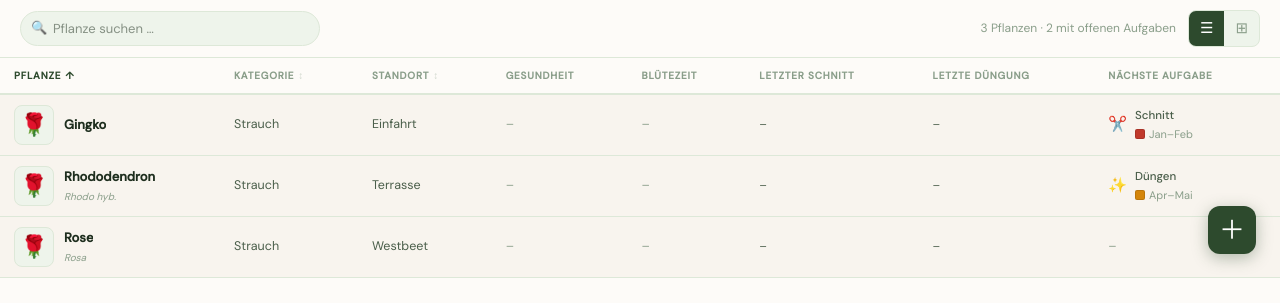
Test: PlantsView — view toggle (AC #5) › switches back to table view on ☰ click
The image size is (1280, 303).
Expected: the number of rows with test id "plant-row" is 3, [0,94,1279,155]; [0,155,1279,216]; [0,216,1279,277]
Step 1. Click the button with test id "view-card" → {"x": 1242, "y": 28}, box [1224,11,1259,46]
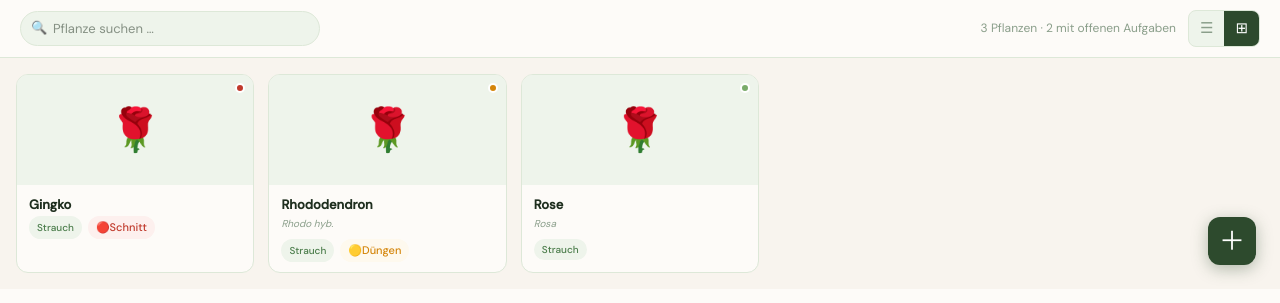
Step 2. Click the button with test id "view-table" → {"x": 1207, "y": 28}, box [1189,11,1224,46]
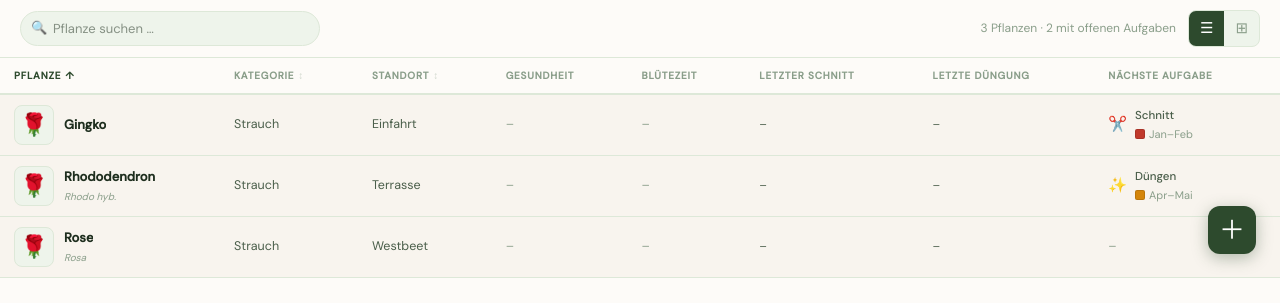
Expected: the element with test id "plants-table" is shown
Expected: the element with test id "plants-cards" is gone
